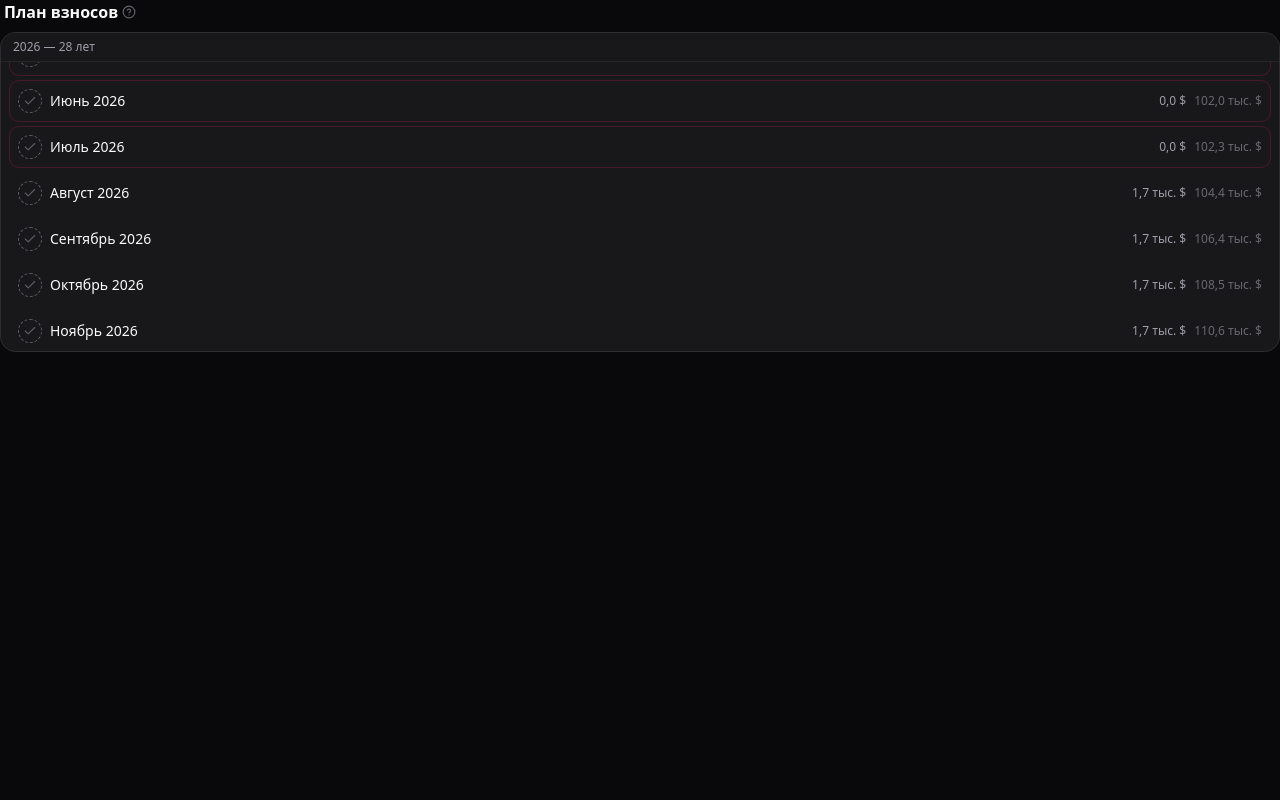
it: Calendar › opens month dialog on row click
(page scrolled)
Click the element showing "Август 2026 1,7 тыс. $ 104,4 тыс. $" at point(72, 192), box [18,181,1262,205]
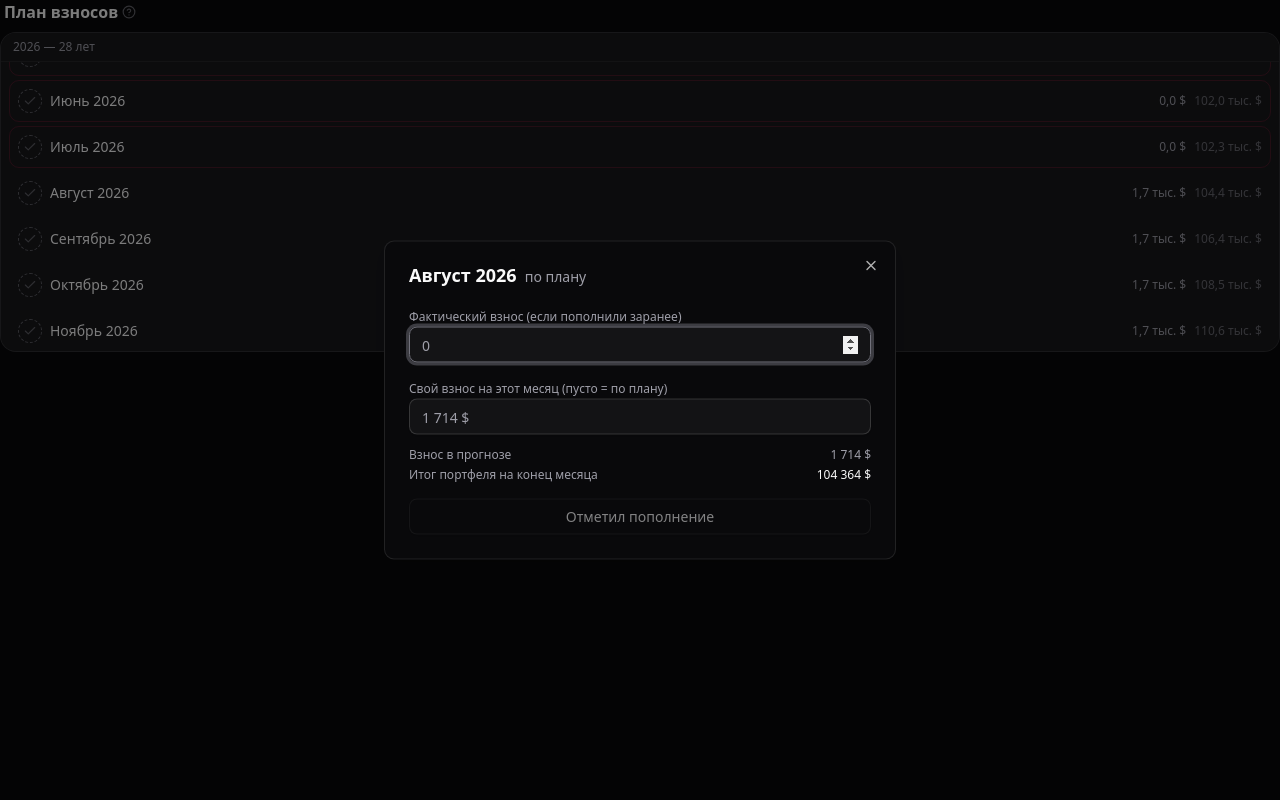
Result: the dialog is shown at [384,240,896,560]
Result: the button "Отметил пополнение" is shown at [409,498,871,534]
